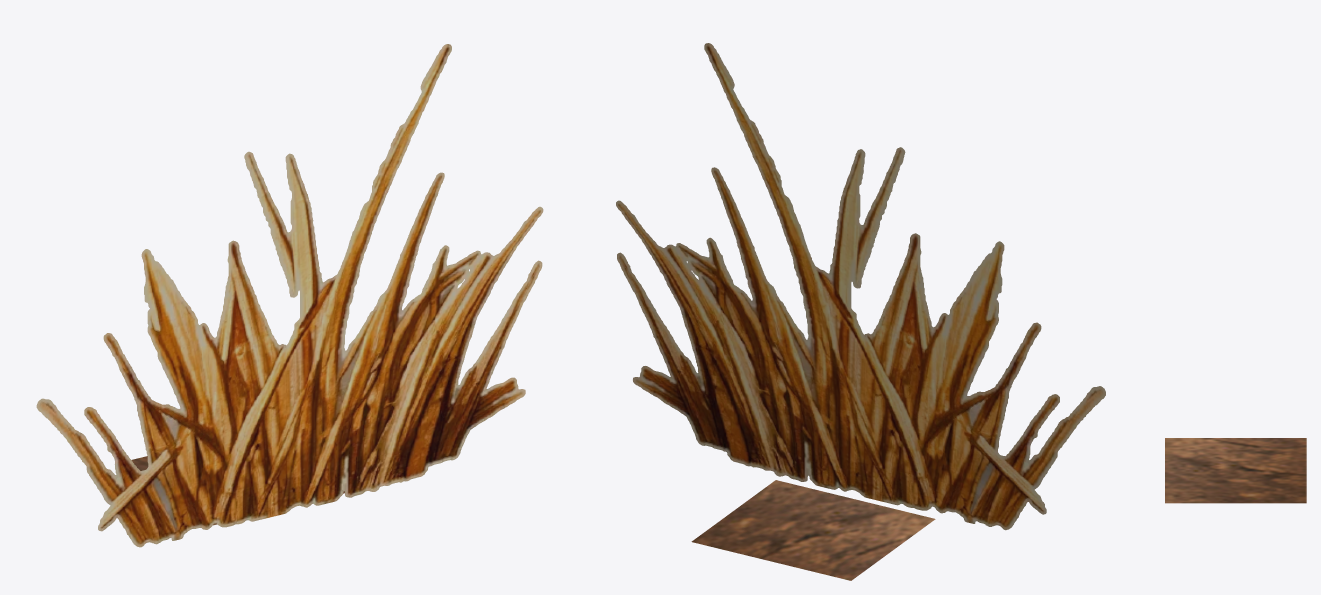
The model's file is toad-prop-reeds-dry.glb.
The picture shows the model from 3 angles, left to right: view 1: azimuth 30°, elevation 25°; view 2: azimuth 150°, elevation 25°; view 3: azimuth 270°, elevation 25°; orthographic projection. The views are drawn at different scales.
Visible parts, largest first — view 1: reeds-dry; view 2: reeds-dry; view 3: reeds-dry.
Boxes of the visible parts, box(x1,y1,x2,y2) form: reeds-dry: box(36, 44, 543, 547); reeds-dry: box(616, 43, 1105, 580); reeds-dry: box(1165, 438, 1306, 503).
Size of the model in its own units: 0.12 by 0.09 by 0.035.
Materials: 1 (1 with a texture image).
